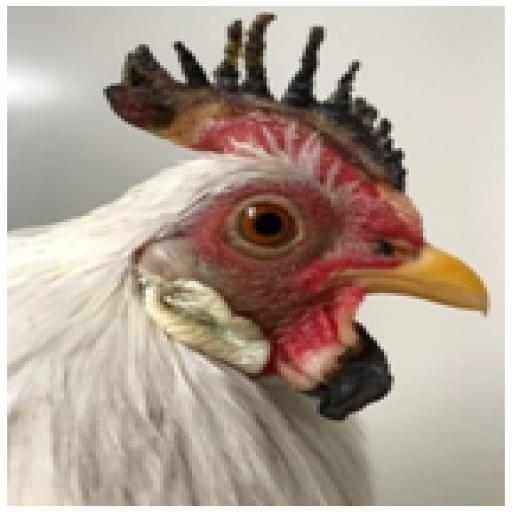disease: (86, 16, 434, 188), (110, 228, 280, 382), (294, 308, 402, 431)
